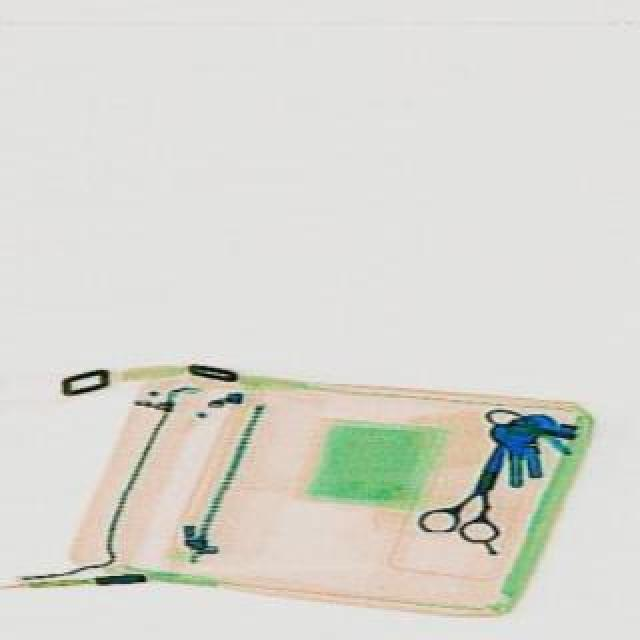pliers: (410, 428, 534, 556)
